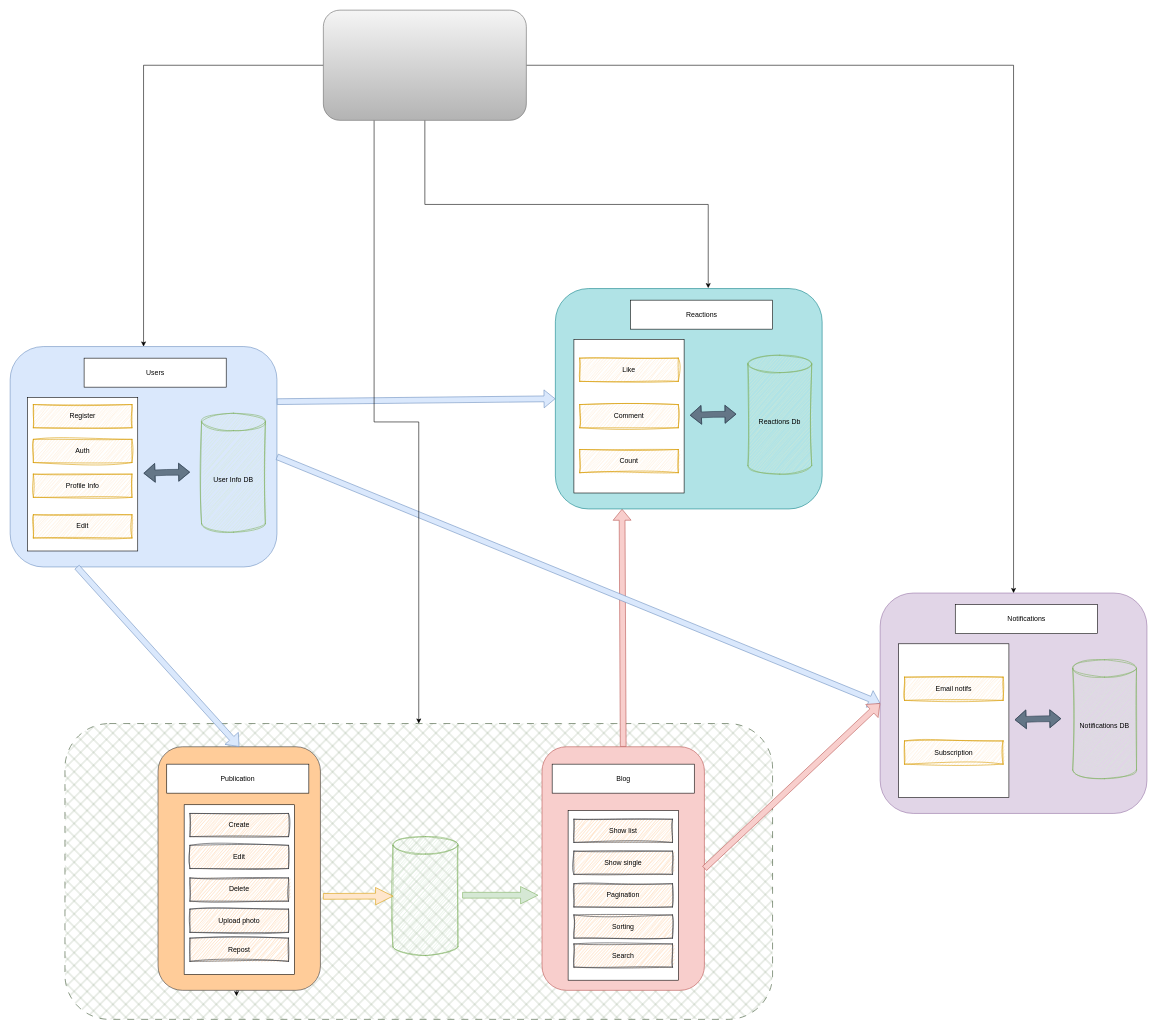
The diagram is 1157 pixels wide and 1030 high, and some of its shapes have lost their labels. Here are the shapes that lost their labels. From the top down, the centre of each, then its label:
the point at 424,65: API
the point at 425,896: Publication DB
